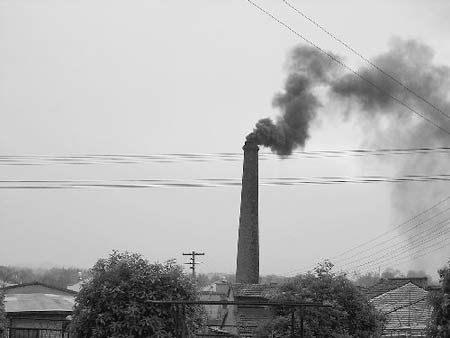dust: (242, 43, 336, 162)
